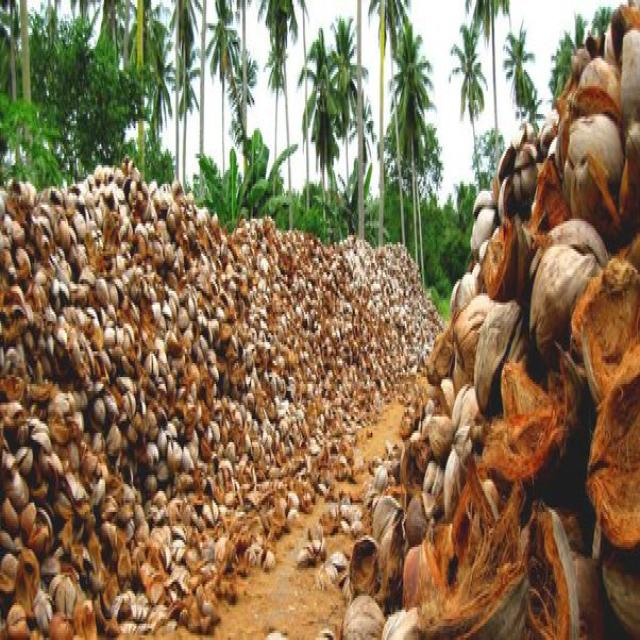dry_waste: (454, 96, 640, 618), (0, 167, 199, 554), (210, 212, 341, 485), (336, 232, 437, 381)
